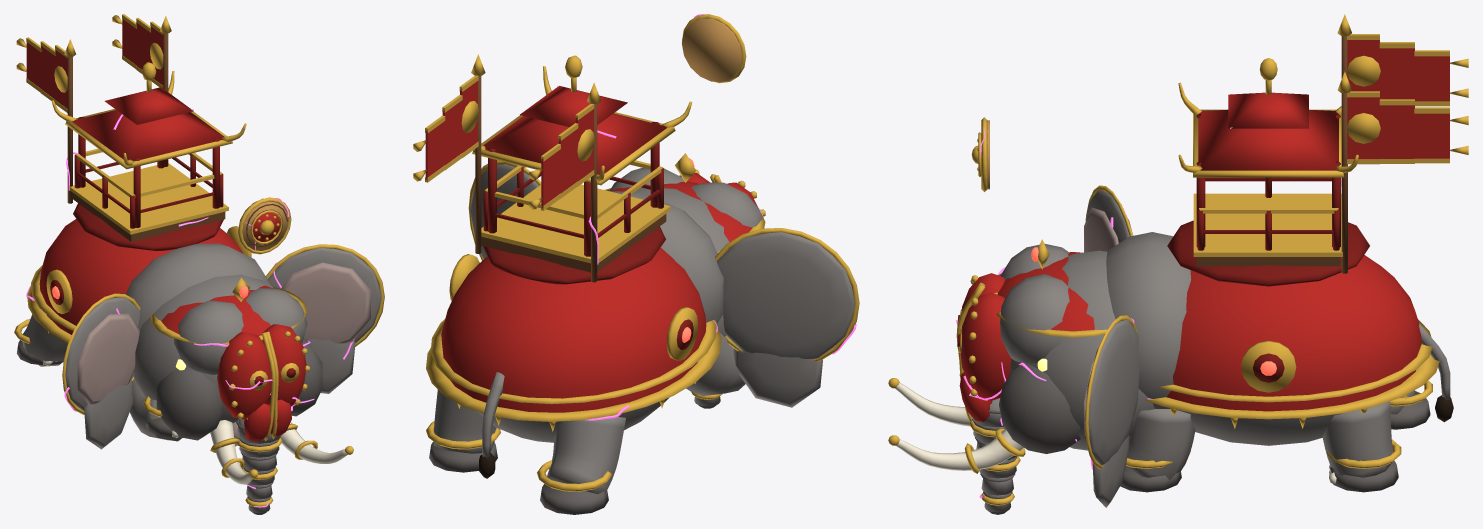
Rendered from voi.glb.
3 renders of one model, left to right at view 1: azimuth 30°, elevation 25°; view 2: azimuth 150°, elevation 25°; view 3: azimuth 270°, elevation 25°, orthographic. The views are drawn at different scales.
Visible parts, largest first — view 1: HOWDAH, HEAD, BODY, EAR_R, EAR_L, DOOR_L, DOOR_R, SHIELD, BANNER_L3, BANNER_R3, BANNER_L2, BANNER_L1 (+4 smaller); view 2: BODY, HOWDAH, EAR_L, HEAD, SHIELD, EAR_R, BANNER_R3, BANNER_L3, BANNER_L1, BANNER_R1, BANNER_L2, BANNER_R2; view 3: BODY, HOWDAH, HEAD, EAR_R, DOOR_R, BANNER_R1, EAR_L, BANNER_R2, BANNER_R3, BANNER_L3, BANNER_L2, BANNER_L1 (+2 smaller).
Boxes of the visible parts, x1,y1,x2,y2 form: HOWDAH: [51, 16, 246, 250]; HEAD: [133, 274, 353, 484]; BODY: [14, 219, 270, 441]; EAR_R: [265, 244, 384, 393]; EAR_L: [62, 293, 140, 449]; DOOR_L: [217, 332, 275, 442]; DOOR_R: [262, 324, 309, 439]; SHIELD: [238, 197, 291, 254]; BANNER_L3: [16, 37, 41, 92]; BANNER_R3: [112, 14, 136, 68]; BANNER_L2: [40, 41, 55, 102]; BANNER_L1: [54, 45, 67, 112]; BODY: [426, 191, 745, 514]; HOWDAH: [471, 54, 692, 284]; EAR_L: [715, 228, 859, 407]; HEAD: [605, 153, 765, 336]; SHIELD: [682, 14, 746, 83]; EAR_R: [468, 160, 541, 260]; BANNER_R3: [413, 115, 445, 182]; BANNER_L3: [529, 143, 560, 210]; BANNER_L1: [575, 104, 594, 186]; BANNER_R1: [459, 75, 478, 158]; BANNER_L2: [558, 123, 578, 198]; BANNER_R2: [442, 95, 462, 170]; BODY: [1106, 232, 1453, 492]; HOWDAH: [1167, 14, 1369, 286]; HEAD: [888, 239, 1154, 473]; EAR_R: [1084, 315, 1139, 507]; DOOR_R: [956, 284, 1011, 421]; BANNER_R1: [1347, 91, 1380, 164]; EAR_L: [1084, 185, 1133, 252]; BANNER_R2: [1379, 99, 1414, 163]; BANNER_R3: [1414, 107, 1468, 163]; BANNER_L3: [1414, 50, 1468, 106]; BANNER_L2: [1379, 42, 1414, 99]; BANNER_L1: [1347, 34, 1380, 91].
Bounding box in the file's own units: 64.85 × 73.65 × 82.28.
